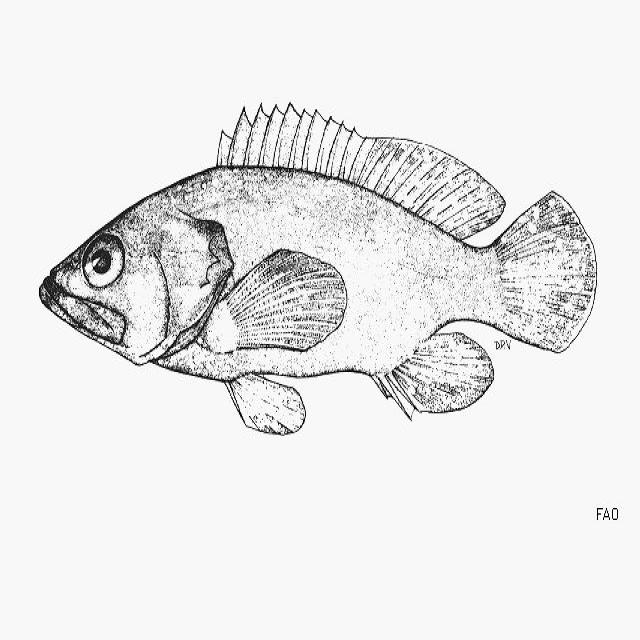ikan: (38, 100, 597, 436)
